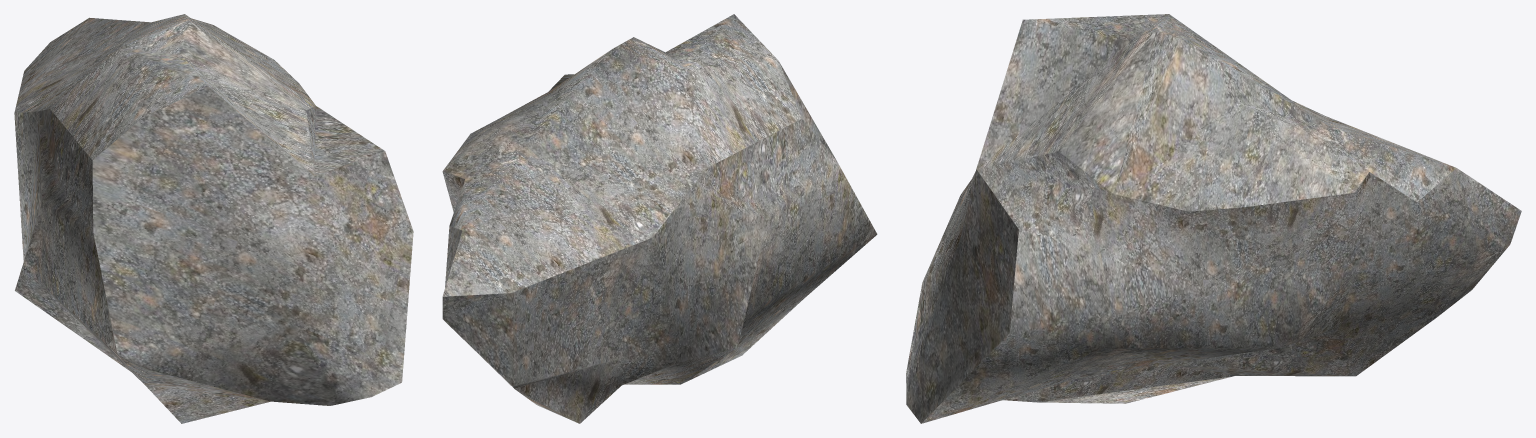
The model's file is rocks_rock3.glb.
3 views of the same model, side by side, from view 1: azimuth 30°, elevation 25°; view 2: azimuth 150°, elevation 25°; view 3: azimuth 270°, elevation 25° (orthographic). The views are drawn at different scales.
Visible parts, largest first — view 1: rock3; view 2: rock3; view 3: rock3.
Part boxes in pixels (left/top/right/bottom): rock3: left=14, top=14, right=413, bottom=423; rock3: left=442, top=14, right=877, bottom=423; rock3: left=906, top=14, right=1521, bottom=423.
Size of the model in its own units: 2.86 by 3.07 by 4.39.
1 material, 1 textured.
